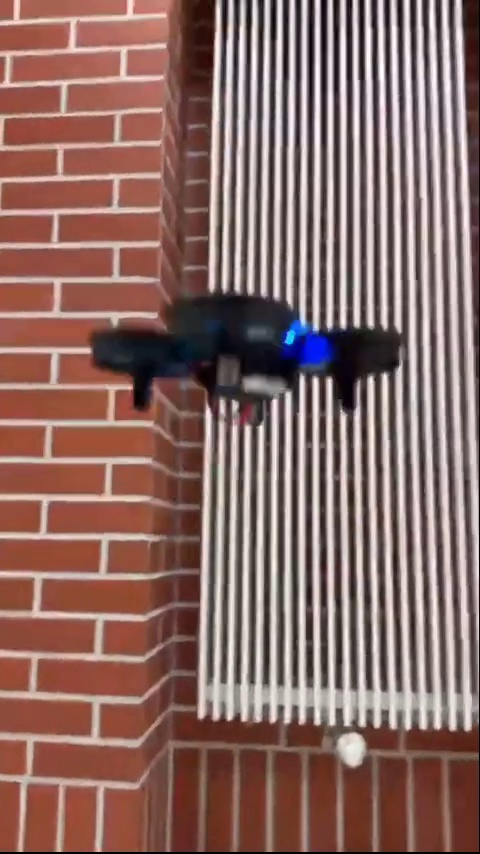drone: (94, 294, 399, 421)
